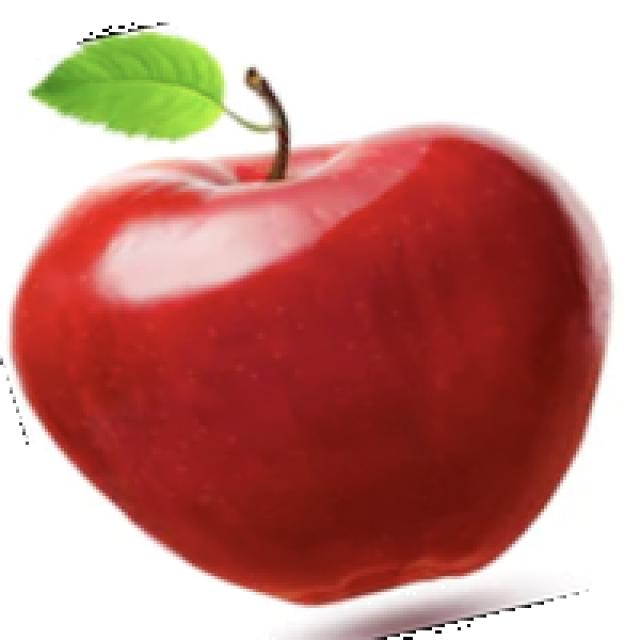apple: (0, 19, 614, 637)
